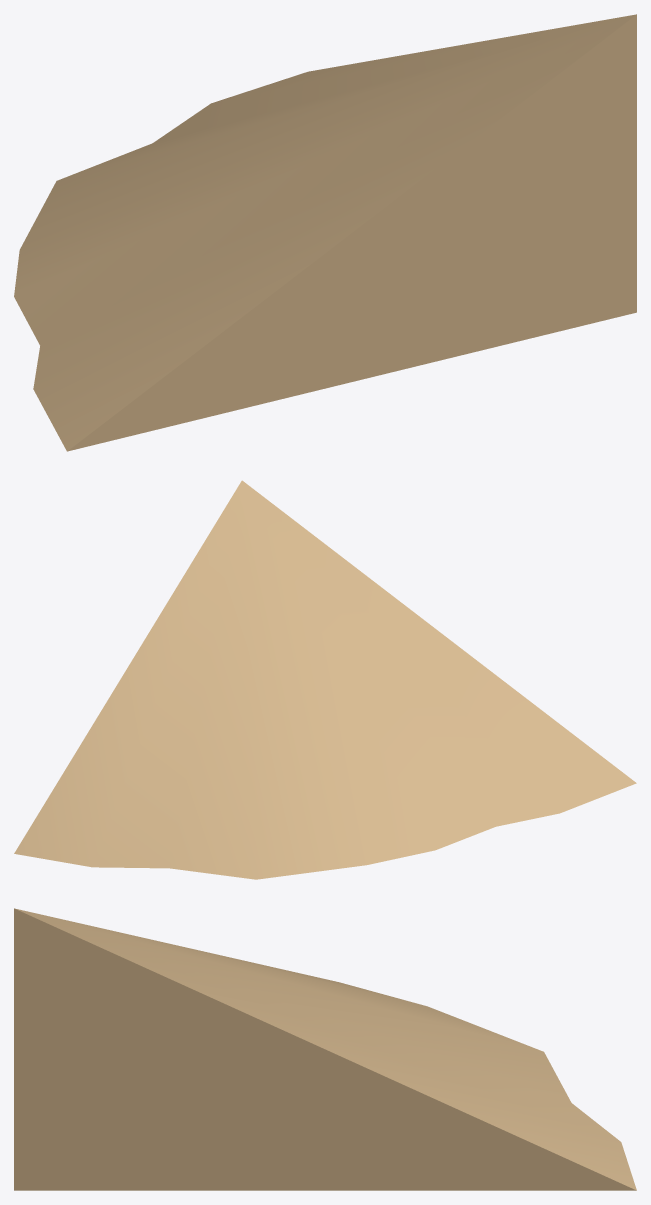
Rendered from Edge_Sand.fbx.
3 views of the same model, one above another, from view 1: azimuth 30°, elevation 25°; view 2: azimuth 150°, elevation 25°; view 3: azimuth 270°, elevation 25° (orthographic). The views are drawn at different scales.
Visible parts, largest first — view 1: Edge_Sand; view 2: Edge_Sand; view 3: Edge_Sand.
Part boxes in pixels (x1,y1,x2,y2): Edge_Sand: (14,14,636,451); Edge_Sand: (14,480,636,879); Edge_Sand: (14,908,636,1190).
Size of the model in its own units: 2 by 2 by 1.
